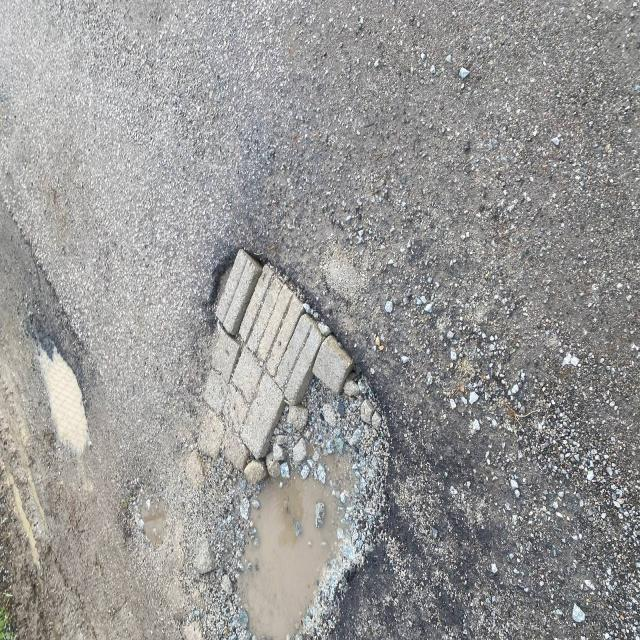pothole: (157, 225, 433, 640)
